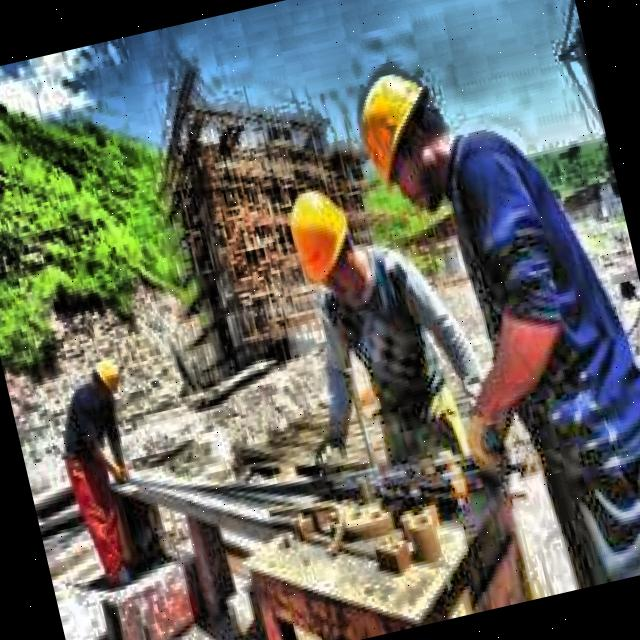helmet: (330, 45, 468, 224), (275, 174, 368, 296), (87, 351, 132, 404)
